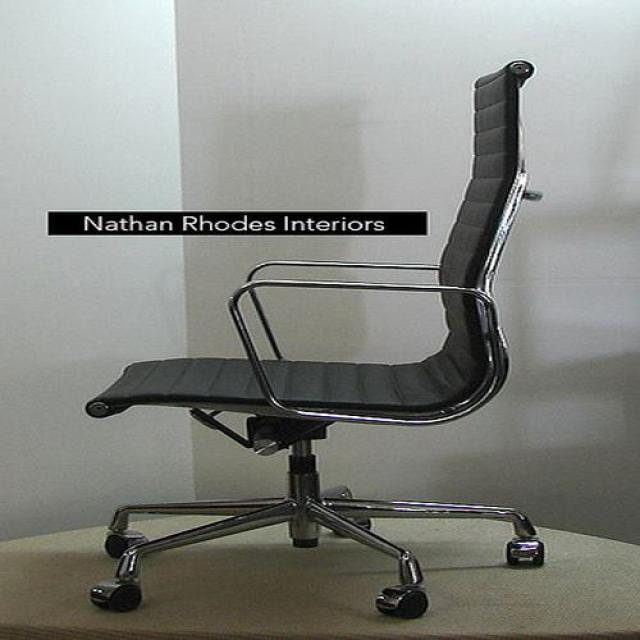swivelchair: (84, 61, 543, 623)
